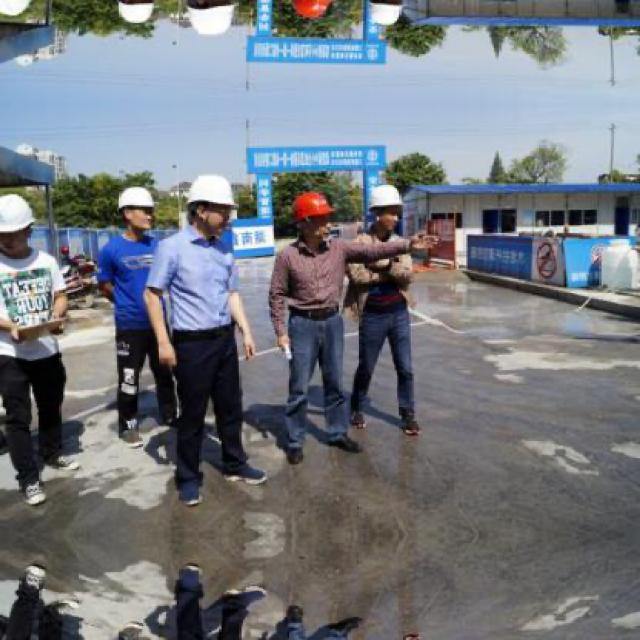helmet: (182, 174, 242, 234), (292, 191, 343, 244), (1, 187, 37, 260), (182, 0, 243, 37), (115, 185, 158, 231), (369, 183, 405, 230), (114, 0, 158, 26), (292, 0, 345, 20), (369, 0, 406, 28), (1, 0, 38, 25)
